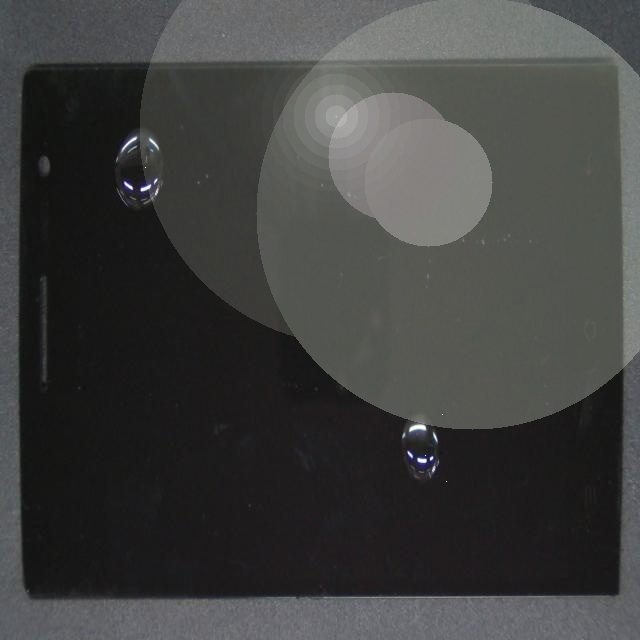oil: (223, 200, 628, 613), (77, 47, 190, 203)
